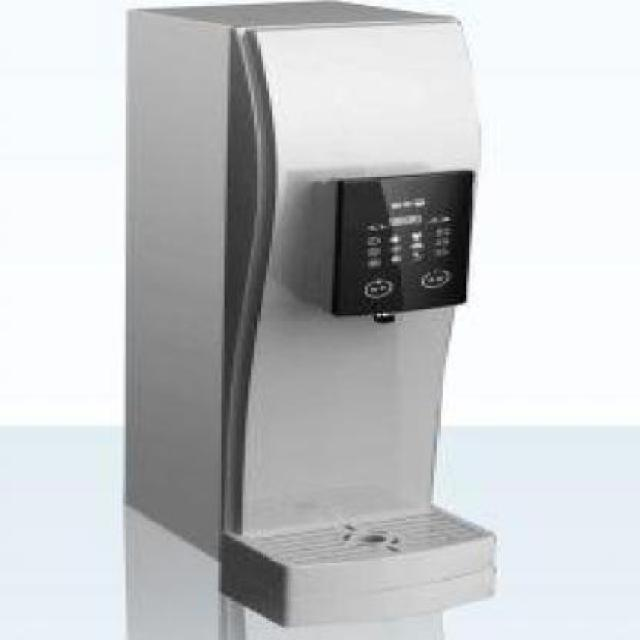cooler: (114, 0, 501, 630)
